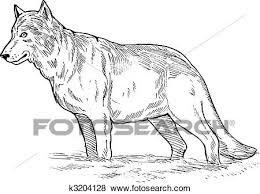Lobo: (2, 1, 254, 163)
